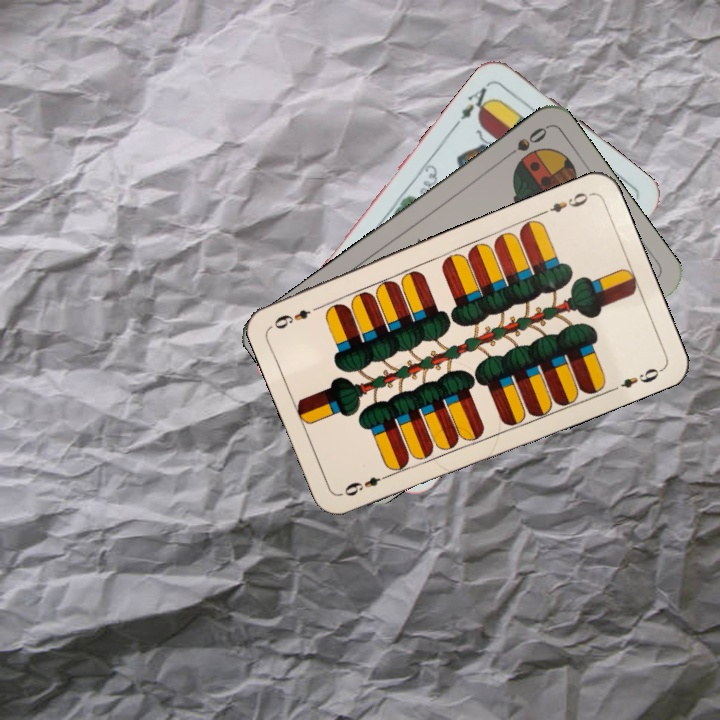E9: (537, 188, 594, 219), (340, 469, 394, 499)
EA: (451, 78, 496, 129)
SO: (498, 123, 550, 163)
